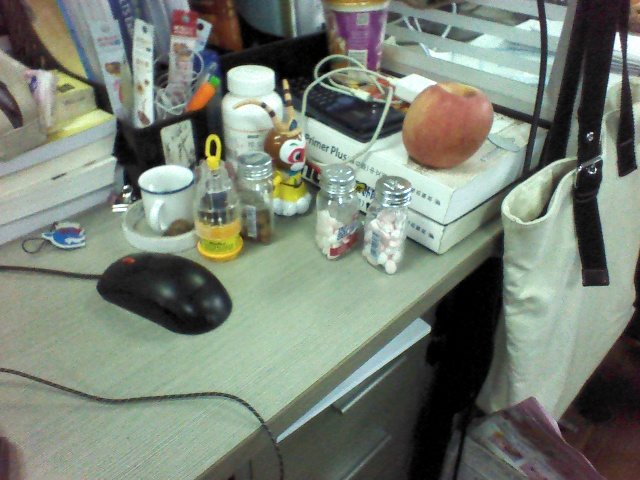ball: (321, 176, 454, 314)
